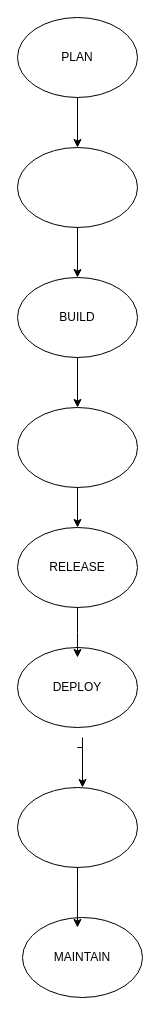
This 160x1015 diagram has some shape labels left out. The centre of each missing label's shape, as x and y in pixels:
"DEVELOP" goes at (77,187).
"OPERATER" goes at (77,827).
"TEST" goes at (77,447).
